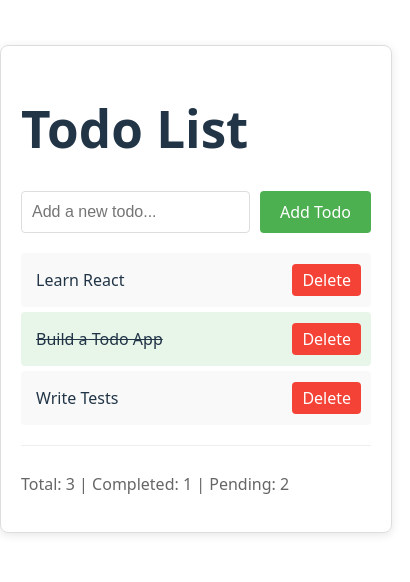
Test: TodoList Component › displays correct todo statistics
This screenshot has width=410, height=582.
Expected: the text with test id "todo-count" shows "Total: 3", x1=21 y1=473 x2=289 y2=495
Expected: the text with test id "todo-count" shows "Completed: 1", x1=21 y1=473 x2=289 y2=495
Step 1. Type "Another Todo" into the field with test id "todo-input" → (136,212), box x1=21 y1=191 x2=250 y2=233
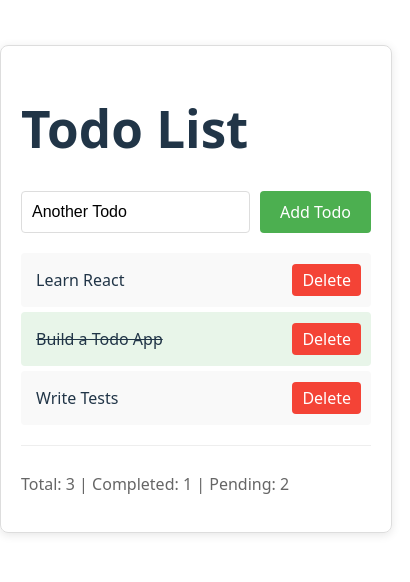
Step 2. Click the button with test id "add-btn" → (316,212), box x1=260 y1=191 x2=371 y2=233
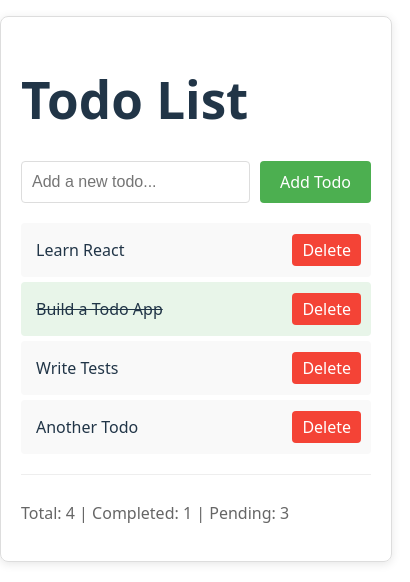
Expected: the text with test id "todo-count" shows "Completed: 1", x1=21 y1=502 x2=289 y2=524
Expected: the text with test id "todo-count" shows "Total: 4", x1=21 y1=502 x2=289 y2=524
Expected: the text with test id "todo-count" shows "Pending: 3", x1=21 y1=502 x2=289 y2=524
Step 3. Click the text "Learn React" → (80,250), box x1=36 y1=240 x2=124 y2=262
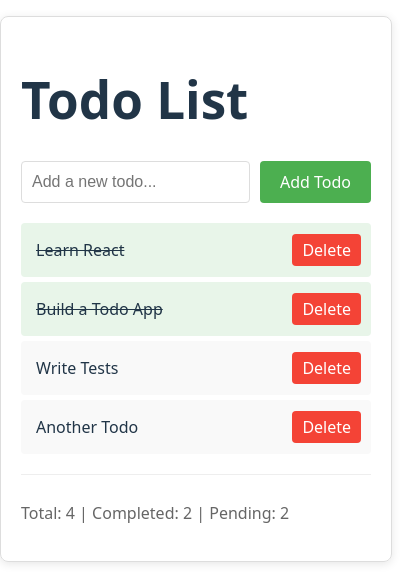
Expected: the text with test id "todo-count" shows "Total: 4", x1=21 y1=502 x2=289 y2=524
Expected: the text with test id "todo-count" shows "Completed: 2", x1=21 y1=502 x2=289 y2=524
Expected: the text with test id "todo-count" shows "Pending: 2", x1=21 y1=502 x2=289 y2=524
Step 4. Click the button with test id "delete-btn-1" → (327,250), box x1=292 y1=234 x2=361 y2=266
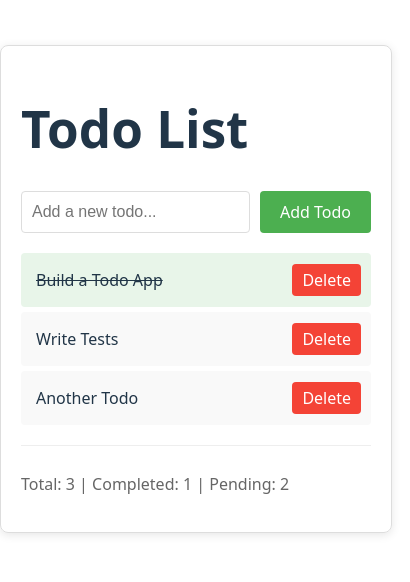
Expected: the text with test id "todo-count" shows "Pending: 2", x1=21 y1=473 x2=289 y2=495
Expected: the text with test id "todo-count" shows "Total: 3", x1=21 y1=473 x2=289 y2=495
Expected: the text with test id "todo-count" shows "Completed: 1", x1=21 y1=473 x2=289 y2=495
